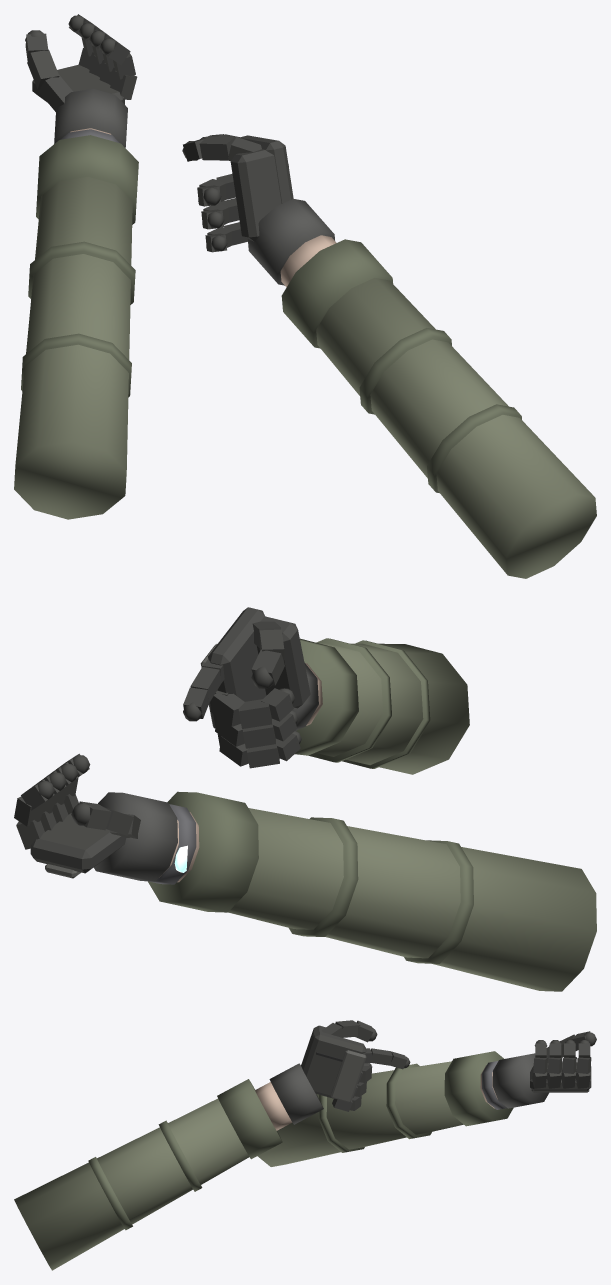
The model's file is hands_laser_rifle.glb.
3 renders of one model, top to bottom at view 1: azimuth 30°, elevation 25°; view 2: azimuth 150°, elevation 25°; view 3: azimuth 270°, elevation 25°, orthographic. The views are drawn at different scales.
Visible parts, largest first — view 1: Hands_laser_rifle, HandL; view 2: HandL, Hands_laser_rifle; view 3: Hands_laser_rifle, HandL.
Part boxes in pixels (x1,y1,x2,y2): Hands_laser_rifle: (182, 134, 596, 578); HandL: (14, 14, 138, 519); HandL: (14, 753, 596, 991); Hands_laser_rifle: (183, 607, 469, 774); Hands_laser_rifle: (14, 1020, 410, 1270); HandL: (257, 1031, 596, 1166).
Size of the model in its own units: 0.4433 by 0.3225 by 0.8069.
